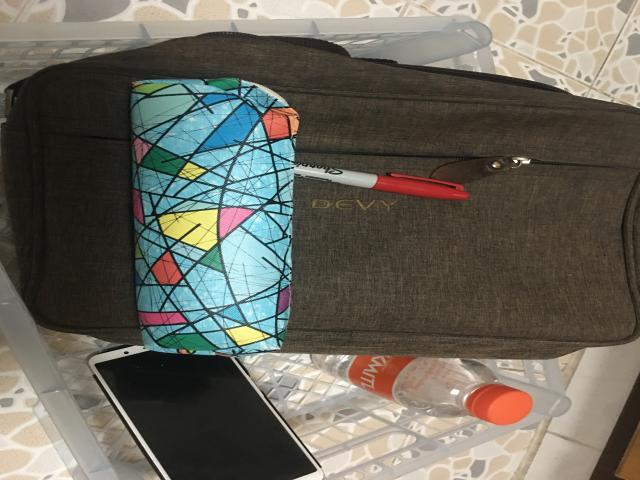Mobile phone: (88, 346, 323, 480)
Pen: (293, 163, 468, 200)
bottle: (312, 354, 533, 426)
